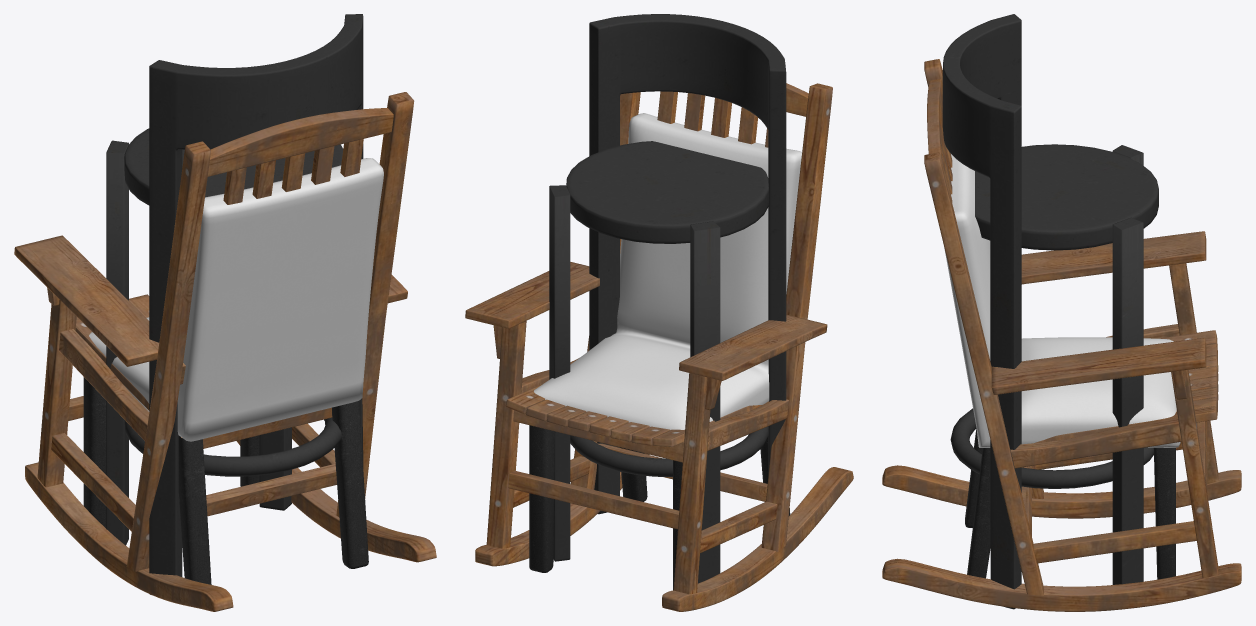
The model's file is chair-set.glb.
The picture shows the model from 3 angles, left to right: view 1: azimuth 30°, elevation 25°; view 2: azimuth 150°, elevation 25°; view 3: azimuth 270°, elevation 25°; orthographic projection. The views are drawn at different scales.
Parts seen in each view (by area): view 1: Chair46, Chair04, Chair25; view 2: Chair25, Chair46, Chair04; view 3: Chair46, Chair25, Chair04.
Part boxes in pixels (box(x1,y1,x2,y2)): Chair46: box(14, 92, 436, 611); Chair04: box(83, 158, 383, 584); Chair25: box(106, 14, 363, 594); Chair25: box(549, 14, 786, 583); Chair46: box(465, 83, 853, 611); Chair04: box(529, 113, 801, 590); Chair46: box(882, 59, 1241, 611); Chair25: box(942, 14, 1158, 609); Chair04: box(944, 154, 1180, 579).
Size of the model in its own units: 0.6117 by 1.1 by 0.7197.
3 materials, 3 textured.
